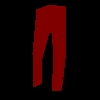abbigliamento_uomo: (32, 4, 66, 91)
